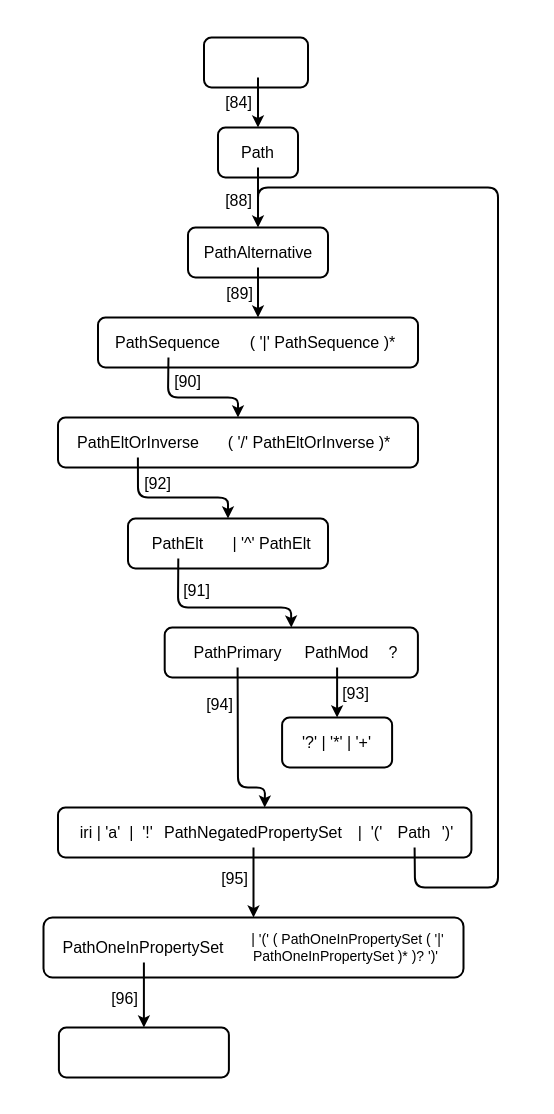
The diagram is 554 pixels wide and 1114 high, and some of its shapes have lost their labels. Each missing label, with the centre of its shape:
"iri | 'a' | '^' ( iri | 'a' )" goes at point 143,1052.
"VerbPath" goes at point 255,62.
